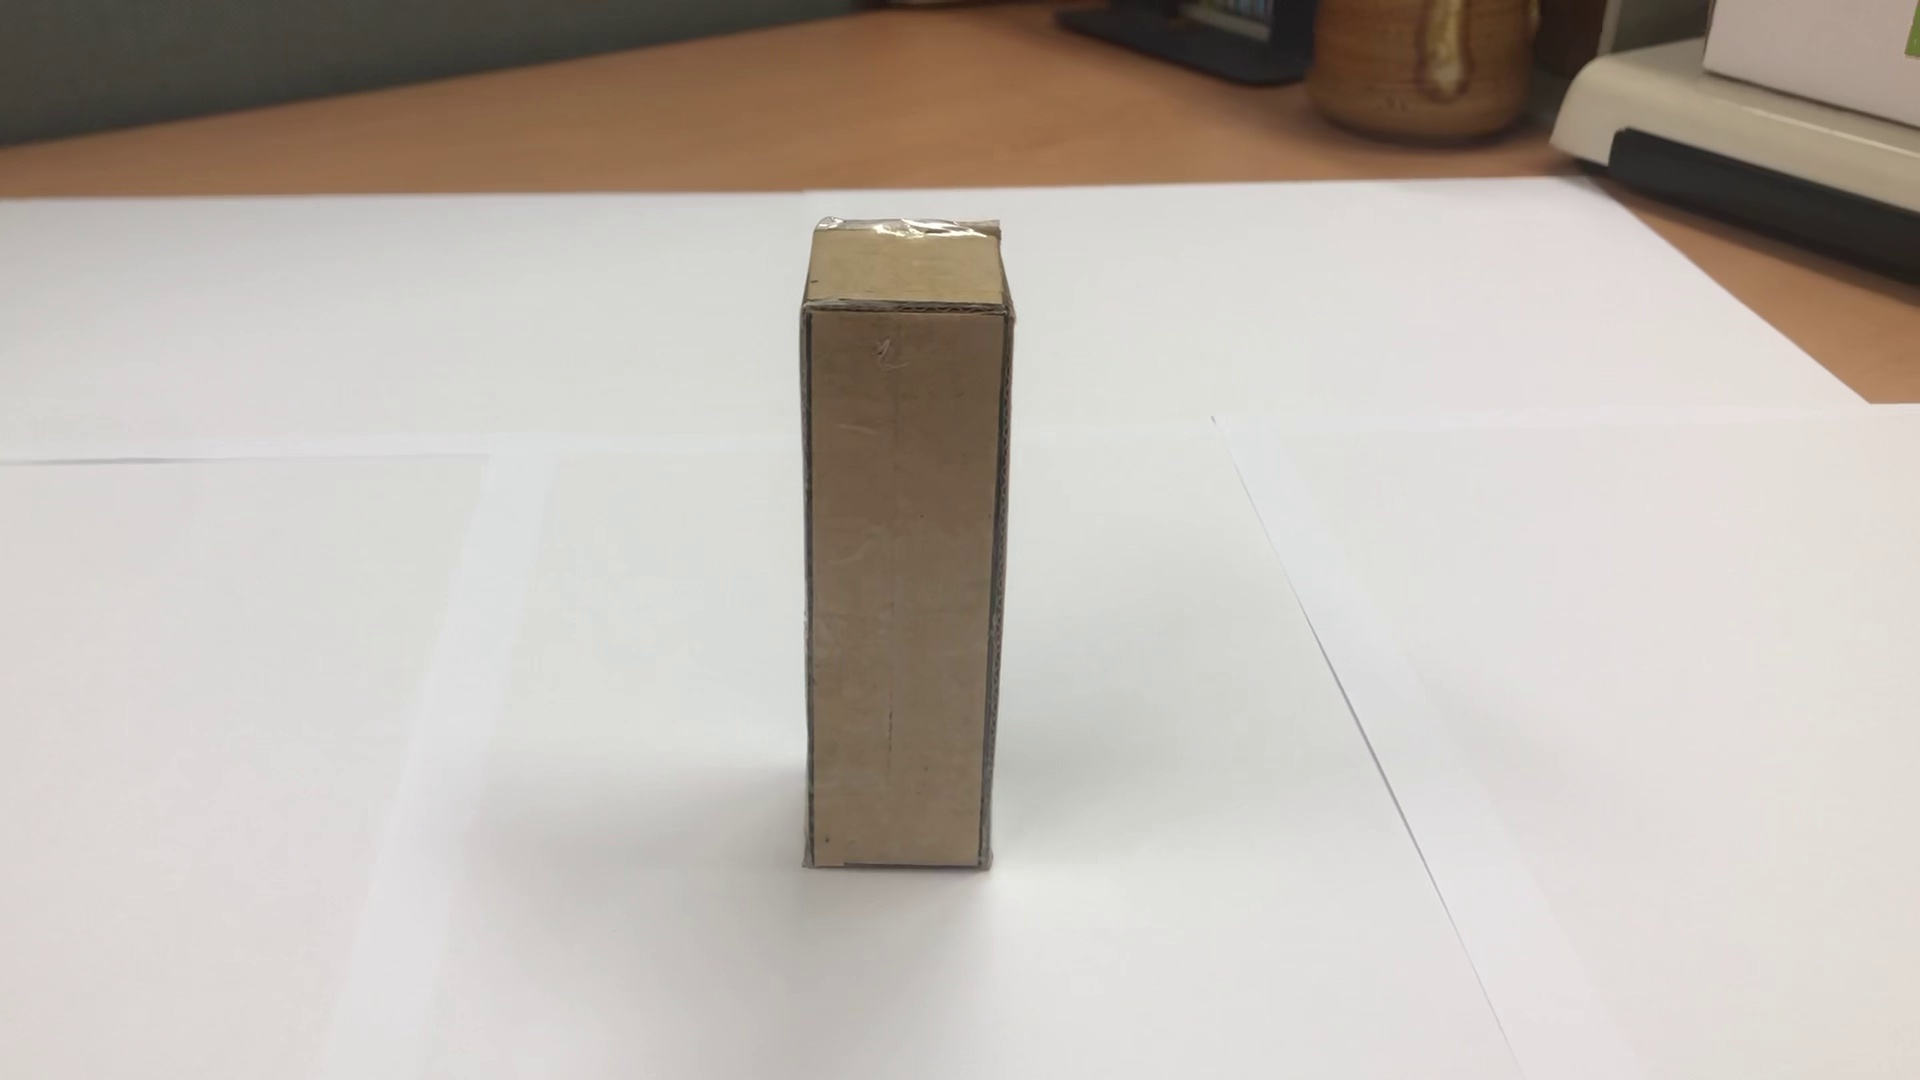box: (785, 206, 1022, 885)
